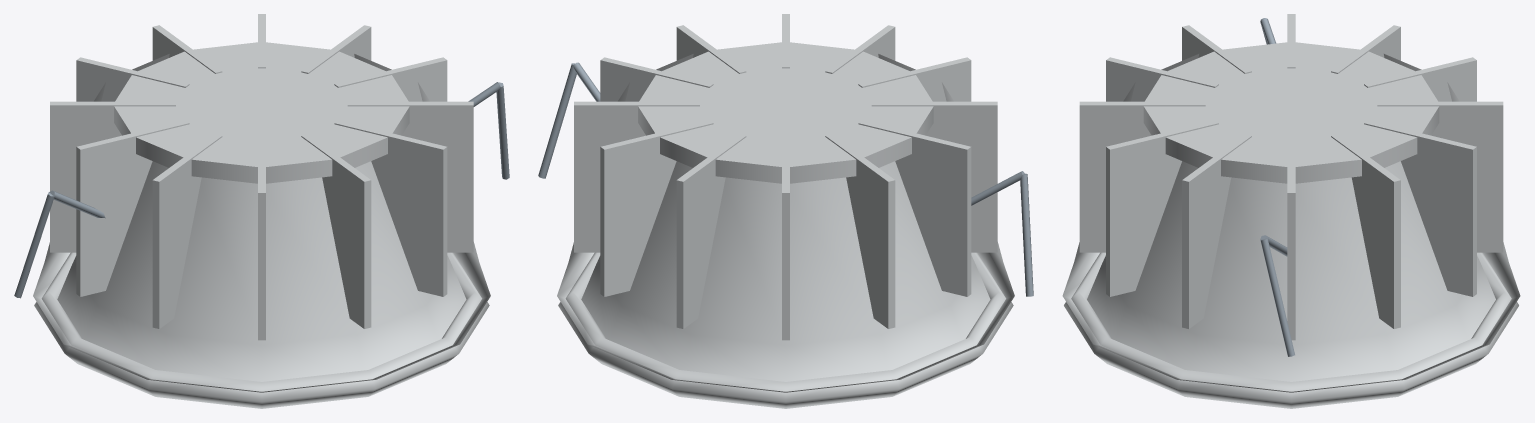
The model's file is source.glb.
The picture shows the model from 3 angles, left to right: view 1: azimuth 30°, elevation 25°; view 2: azimuth 150°, elevation 25°; view 3: azimuth 270°, elevation 25°; orthographic projection.
Visible parts, largest first — view 1: 粉末涂层铝壳, 机加工金属; view 2: 粉末涂层铝壳, 机加工金属; view 3: 粉末涂层铝壳, 机加工金属.
Part boxes in pixels (box(x1,y1,x2,y2)): 粉末涂层铝壳: box(33, 14, 490, 408); 机加工金属: box(14, 82, 509, 298); 粉末涂层铝壳: box(557, 14, 1014, 408); 机加工金属: box(538, 62, 1033, 296); 粉末涂层铝壳: box(1062, 14, 1520, 408); 机加工金属: box(1260, 18, 1294, 356).
Bounding box in the file's own units: 0.105 × 0.0437 × 0.0842.
